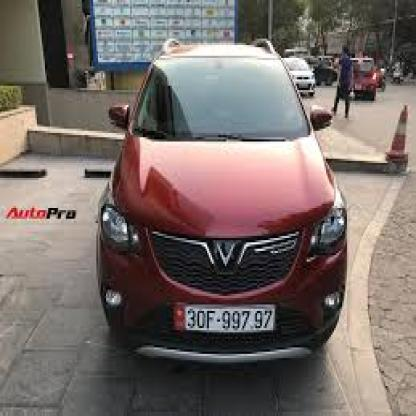biensoxe: (171, 303, 275, 333)
